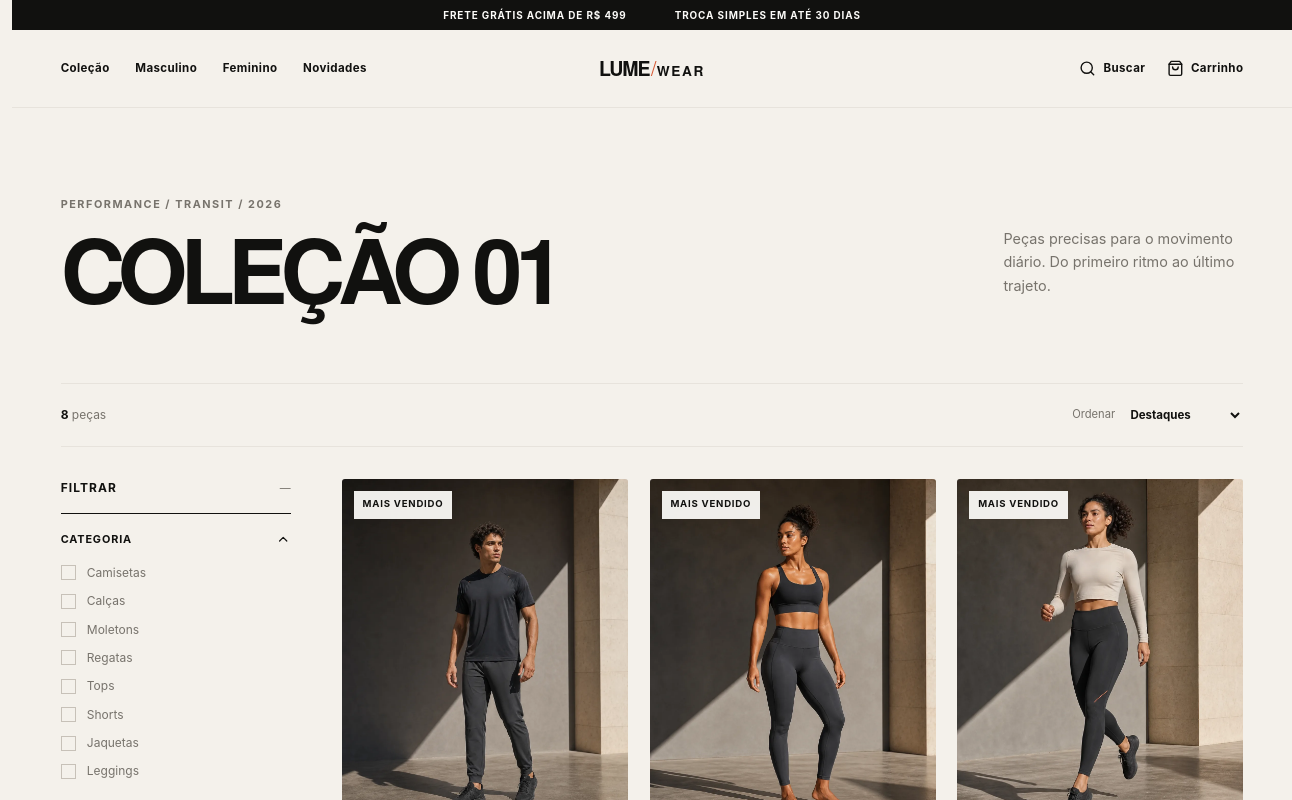
Test: interface da coleção › sincroniza filtro e ordenação com a URL e atualiza o grid
expect the heading "Coleção 01" is shown: met, box [61,203,558,332]
Click the checkbox labelled "Leggings": point(100, 771) [61,764,139,779]
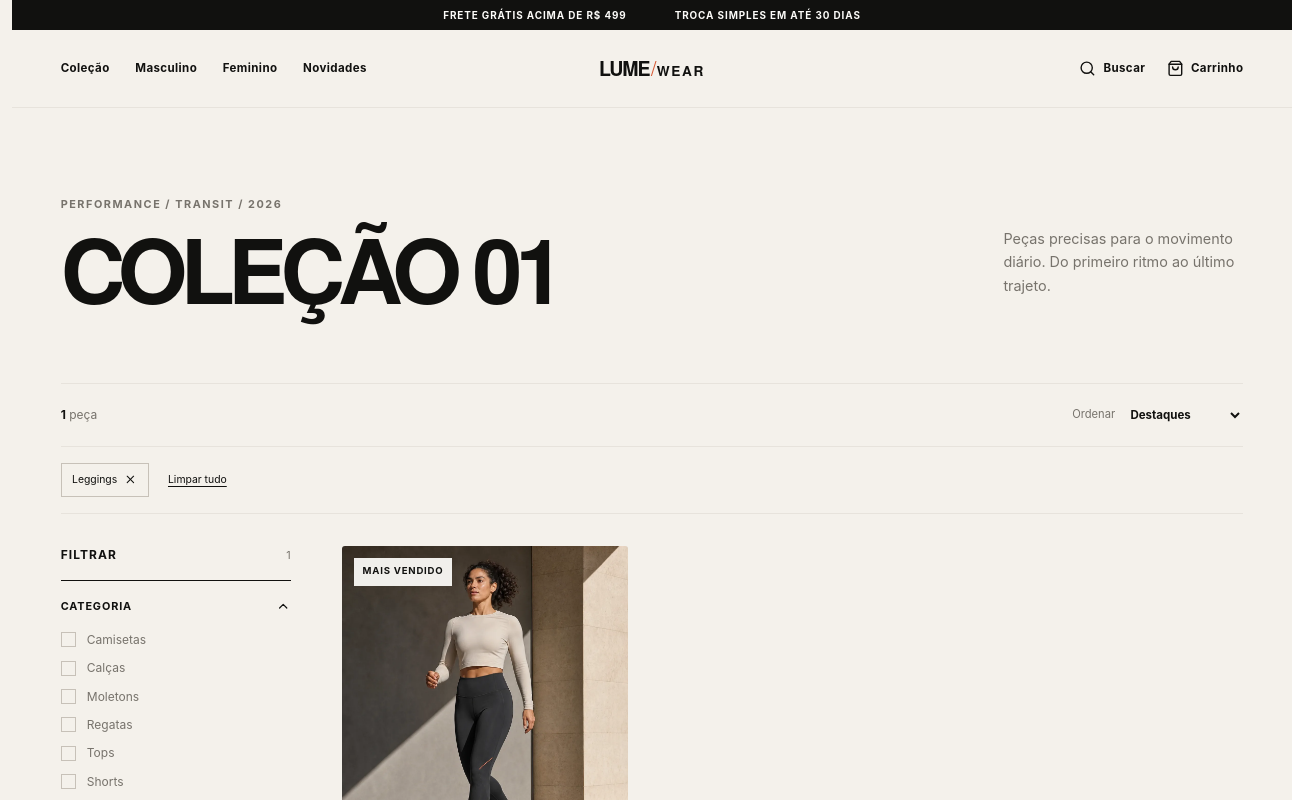
Select "Maior preço" in the dropdown labelled "Ordenar": point(1185, 415) [1126,393,1243,437]
(page scrolled)
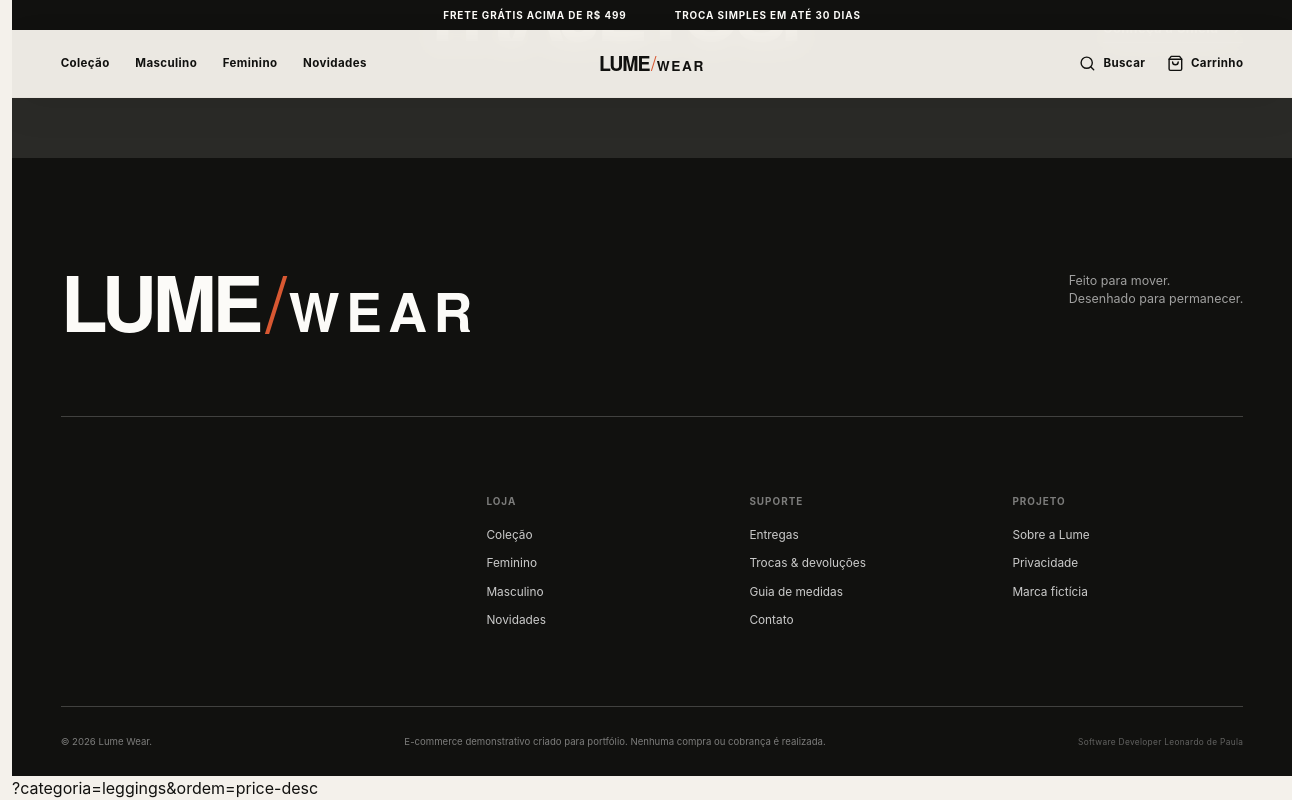
expect the text with test id "location" shows "ordem=price-desc": met, box [12,778,318,798]
